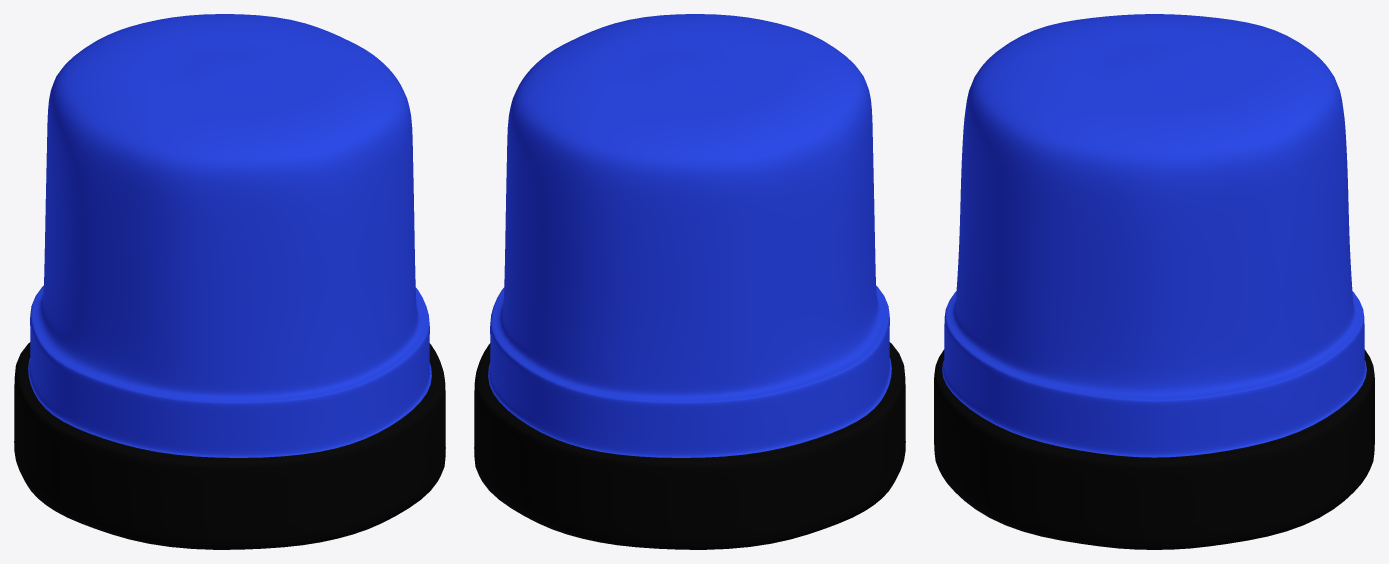
Rendered from alarm_blue.glb.
The picture shows the model from 3 angles, left to right: view 1: azimuth 30°, elevation 25°; view 2: azimuth 150°, elevation 25°; view 3: azimuth 270°, elevation 25°; orthographic projection.
Parts seen in each view (by area): view 1: Sphere; view 2: Sphere; view 3: Sphere.
Part boxes in pixels (x1,y1,x2,y2): Sphere: (14,14,445,549); Sphere: (474,14,905,549); Sphere: (934,14,1374,549).
Size of the model in its own units: 2.01 by 2.03 by 2.03.
